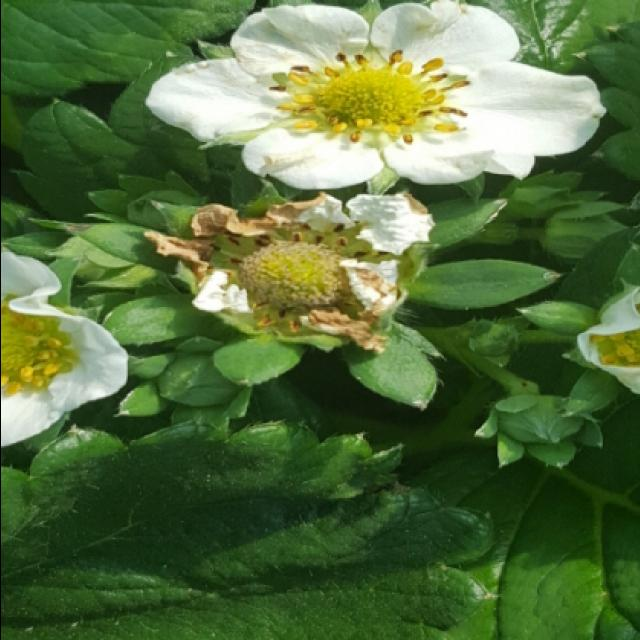Blossom Blight: (200, 217, 390, 339), (263, 45, 472, 150)
